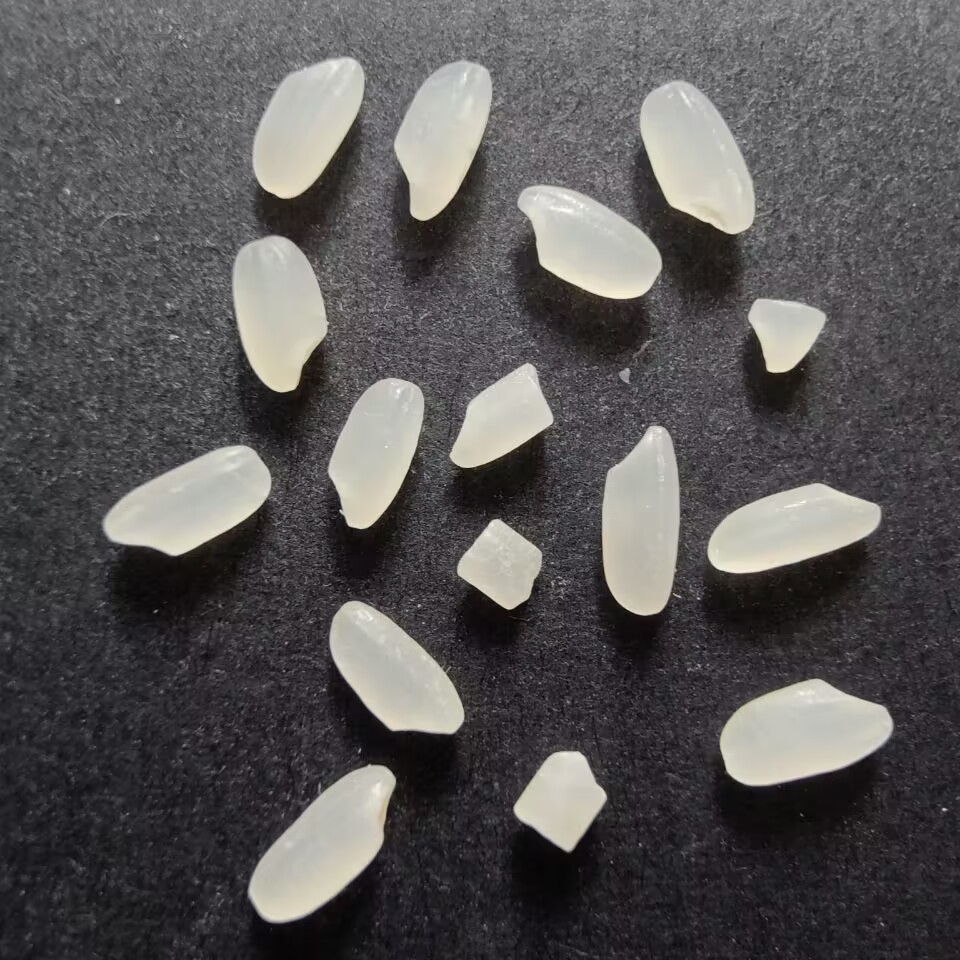broken: (446, 358, 557, 469), (510, 745, 614, 860), (452, 516, 550, 613), (742, 291, 831, 378)
rice: (244, 763, 397, 930), (719, 670, 898, 791), (99, 441, 276, 559), (324, 594, 468, 739), (637, 78, 759, 236), (515, 182, 667, 303), (249, 53, 370, 201), (593, 419, 682, 620), (705, 479, 887, 577), (225, 234, 332, 398), (392, 58, 495, 224), (329, 373, 425, 533)
